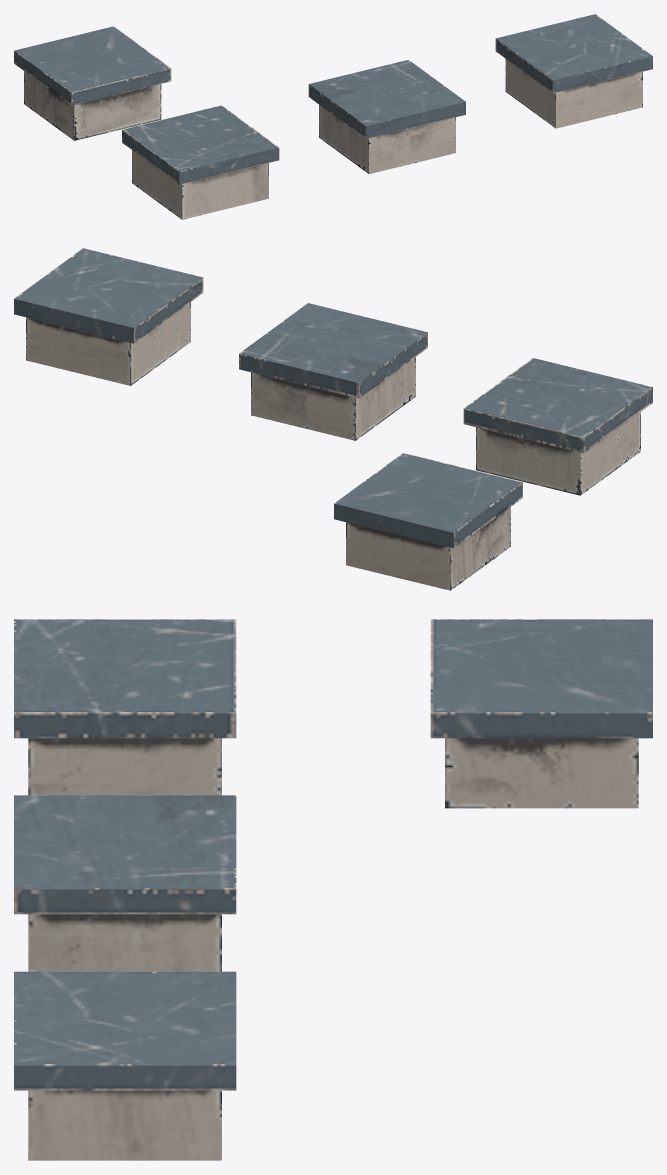
The model's file is jctRoofBoxesA.fbx.
The picture shows the model from 3 angles, top to bottom: view 1: azimuth 30°, elevation 25°; view 2: azimuth 150°, elevation 25°; view 3: azimuth 270°, elevation 25°; orthographic projection. The views are drawn at different scales.
Parts seen in each view (by area): view 1: jctRoofBoxesA; view 2: jctRoofBoxesA; view 3: jctRoofBoxesA.
Boxes of the visible parts, bbox=[...] form: jctRoofBoxesA: bbox=[14, 14, 652, 219]; jctRoofBoxesA: bbox=[14, 248, 652, 590]; jctRoofBoxesA: bbox=[14, 619, 652, 1160].
Bounding box in the file's own units: 583 × 61.58 × 353.
